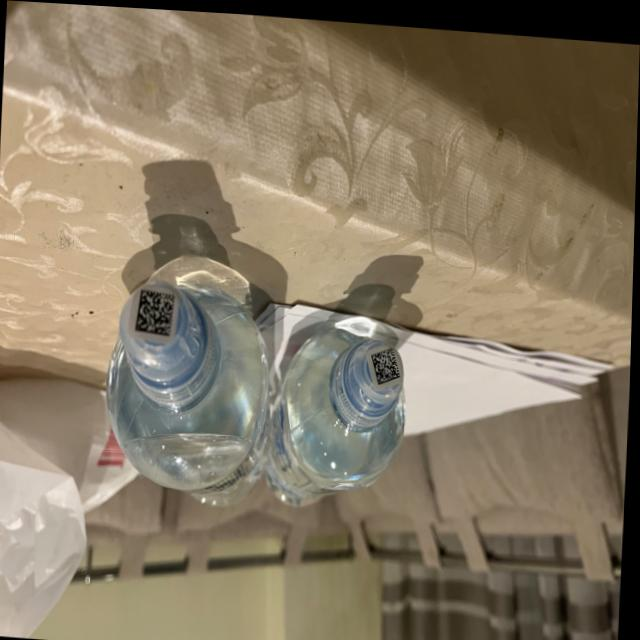datamatrix: (136, 286, 178, 335), (371, 341, 403, 382)
